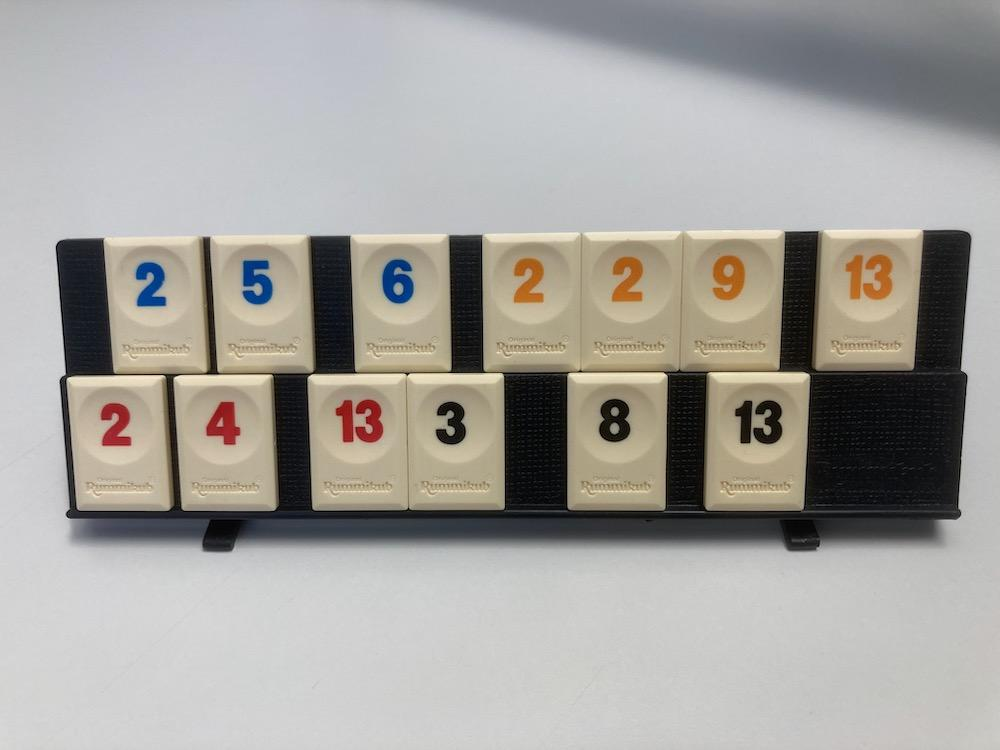black_13: (705, 371, 809, 510)
black_3: (406, 375, 504, 510)
black_8: (568, 373, 668, 510)
blue_2: (104, 238, 211, 373)
blue_5: (211, 236, 314, 373)
blue_6: (350, 236, 450, 371)
orange_13: (812, 230, 924, 371)
orange_2: (580, 233, 682, 369), (484, 232, 582, 371)
orange_9: (680, 230, 785, 371)
red_13: (309, 375, 406, 510)
red_2: (66, 376, 174, 512)
red_4: (174, 375, 277, 512)
